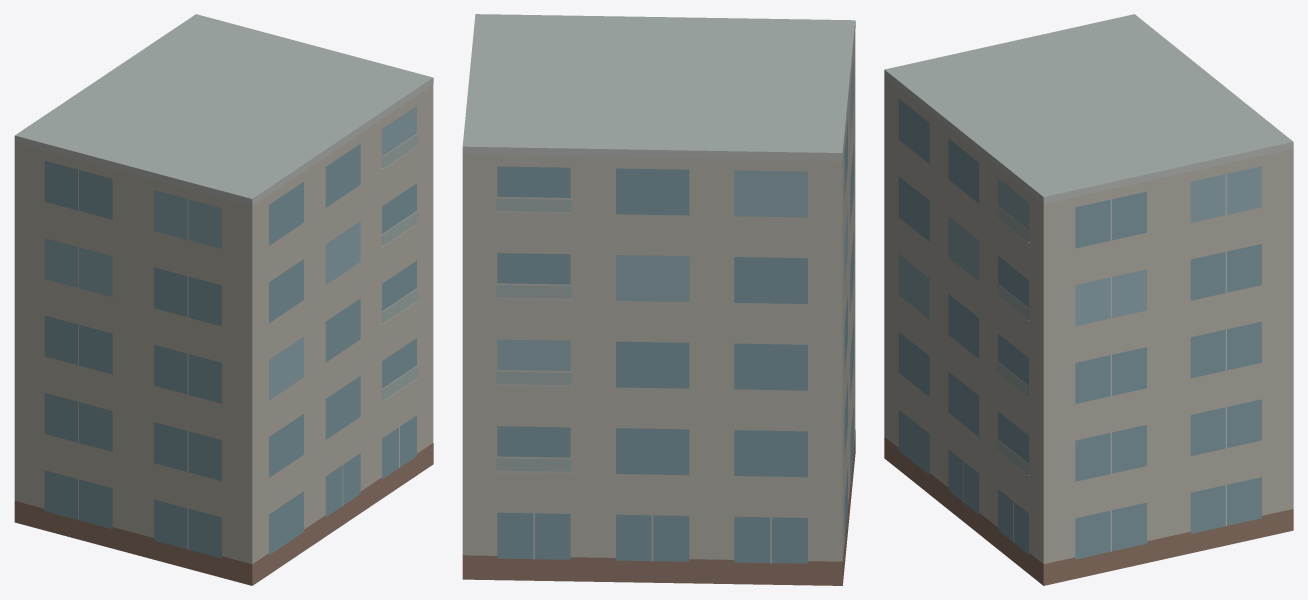
The model's file is survey-upis-32837580.glb.
3 views of the same model, side by side, from view 1: azimuth 30°, elevation 25°; view 2: azimuth 150°, elevation 25°; view 3: azimuth 270°, elevation 25° (orthographic). The views are drawn at different scales.
Visible parts, largest first — view 1: survey-upis-32837580.tmp; view 2: survey-upis-32837580.tmp; view 3: survey-upis-32837580.tmp.
Part boxes in pixels (x1,y1,x2,y2): survey-upis-32837580.tmp: (14,14,433,585); survey-upis-32837580.tmp: (462,14,855,585); survey-upis-32837580.tmp: (884,14,1293,585).
Size of the model in its own units: 13.85 by 13.7 by 13.08.
